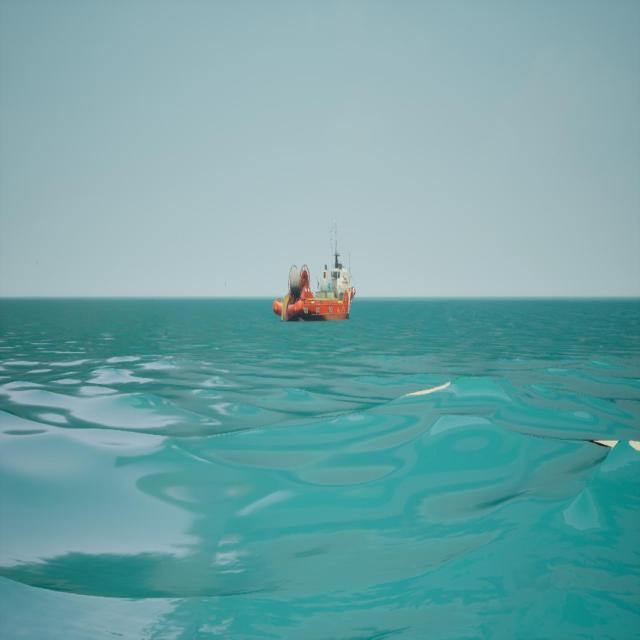tug boat: (279, 222, 357, 324)
